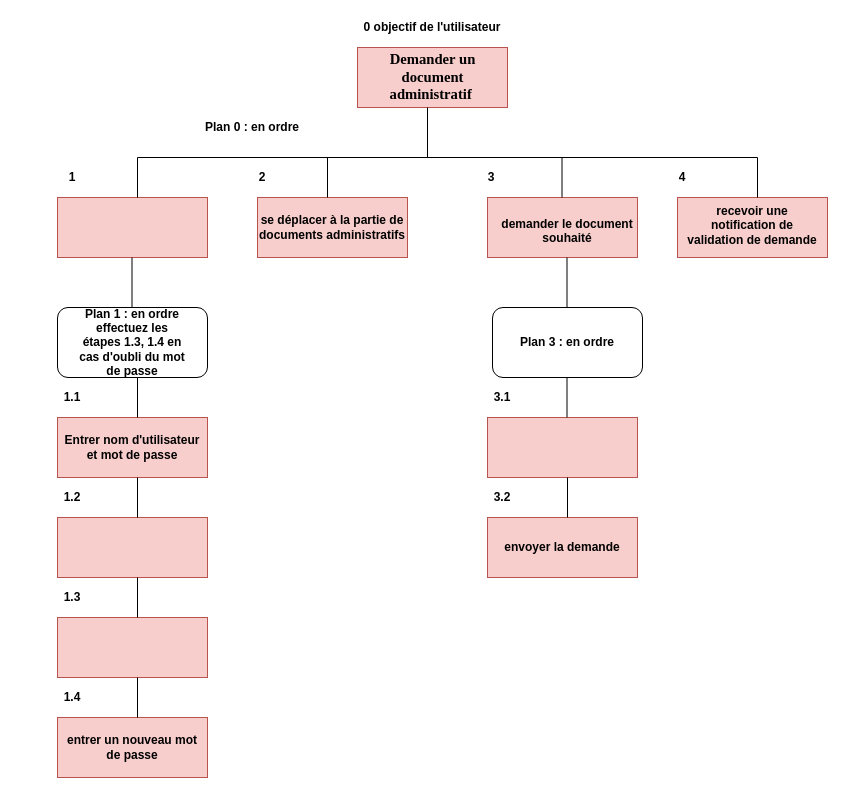
Some shapes in this 845 by 795 pixel diagram are drawn without their labels. The shapes that lost their labels are listed below. From the top down, each one's centre as x and y in pixels, then its label:
At (x=132, y=227): "se connecter à la plateforme".
At (x=562, y=447): "remplir les informations relatives".
At (x=132, y=547): "cliquer sur le bouton de se connecter".
At (x=132, y=647): "cliquer sur réinitialiser le mot de passe".
